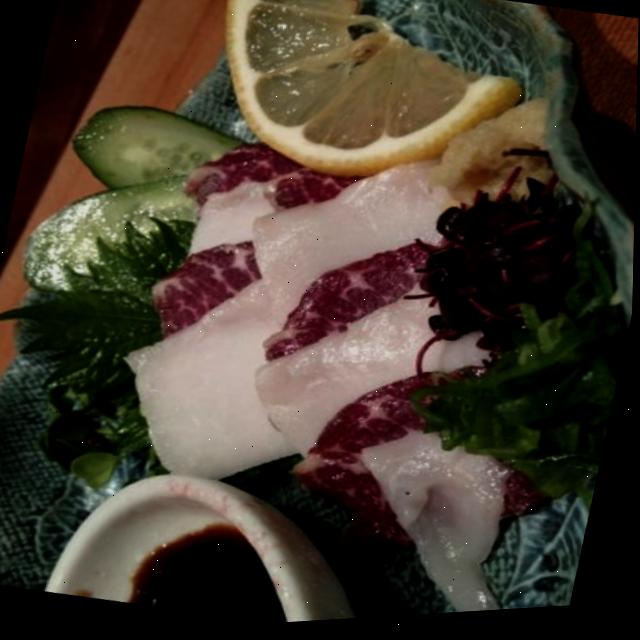刺身生食: (26, 87, 636, 587)
